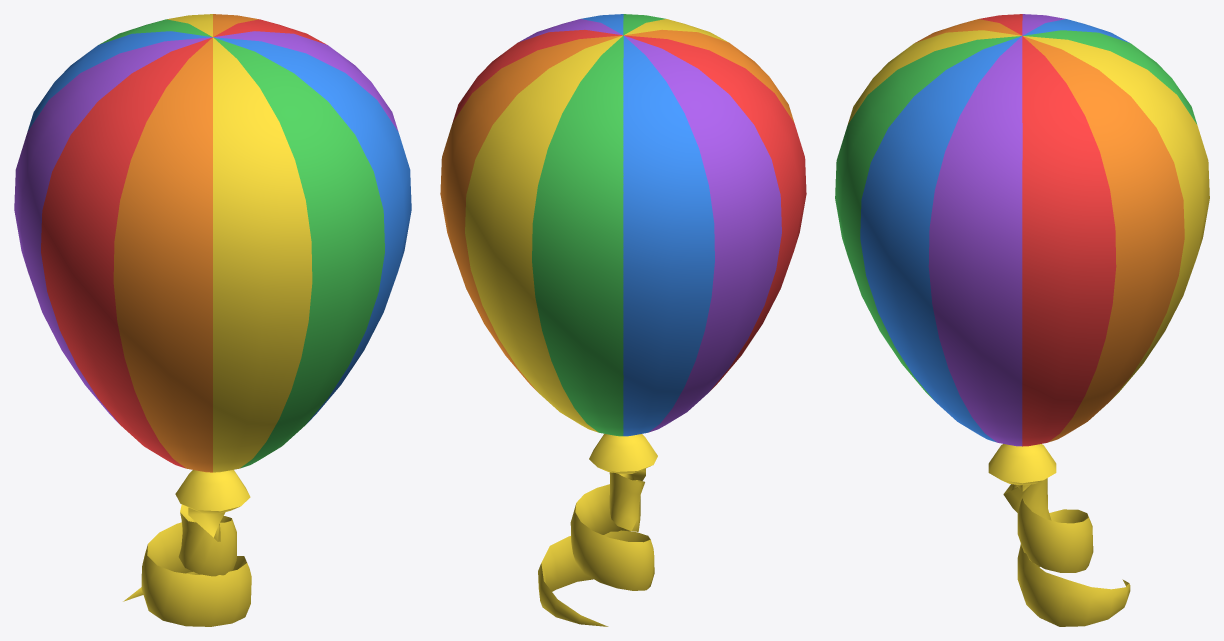
File: item_balloon_rainbow.glb
3 renders of one model, left to right at view 1: azimuth 30°, elevation 25°; view 2: azimuth 150°, elevation 25°; view 3: azimuth 270°, elevation 25°, orthographic. The views are drawn at different scales.
Visible parts, largest first — view 1: item_balloon_rainbow; view 2: item_balloon_rainbow; view 3: item_balloon_rainbow.
Boxes of the visible parts, x1=… form: item_balloon_rainbow: x1=14, y1=14, x2=411, y2=626; item_balloon_rainbow: x1=440, y1=14, x2=806, y2=626; item_balloon_rainbow: x1=835, y1=14, x2=1209, y2=626.
Bounding box in the file's own units: 3.36 × 5.61 × 3.36.
Materials: 1 (1 with a texture image).
